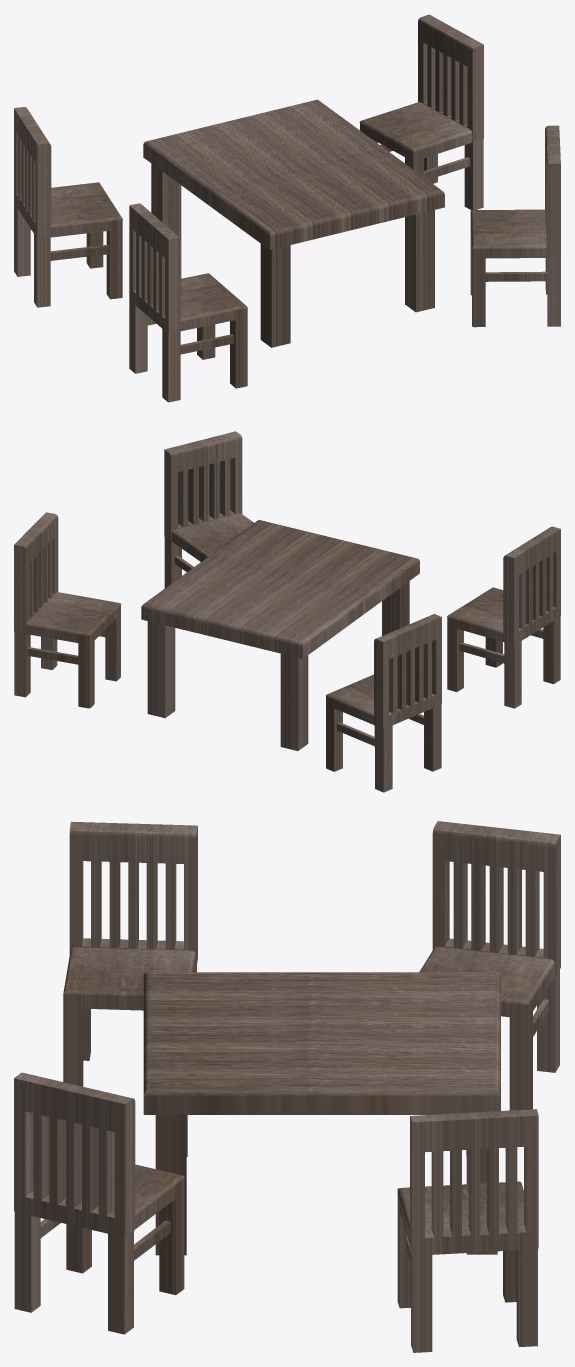
Rendered from comedor (1).glb.
3 views of the same model, one above another, from view 1: azimuth 30°, elevation 25°; view 2: azimuth 150°, elevation 25°; view 3: azimuth 270°, elevation 25° (orthographic). The views are drawn at different scales.
Parts seen in each view (by area): view 1: Object_3, Object_2; view 2: Object_3, Object_2; view 3: Object_3, Object_2.
Part boxes in pixels (bbox=[...]): Object_3: bbox=[14, 14, 560, 402]; Object_2: bbox=[143, 99, 444, 347]; Object_3: bbox=[14, 431, 560, 792]; Object_2: bbox=[141, 520, 419, 750]; Object_3: bbox=[14, 821, 560, 1352]; Object_2: bbox=[143, 972, 500, 1255].
Bounding box in the file's own units: 23.03 × 8.21 × 17.66.
2 materials, 2 textured.
